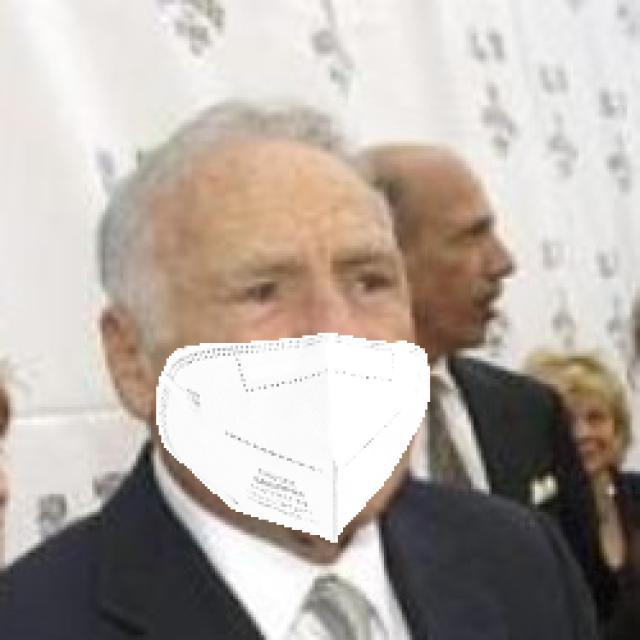mask: (118, 326, 490, 574)
